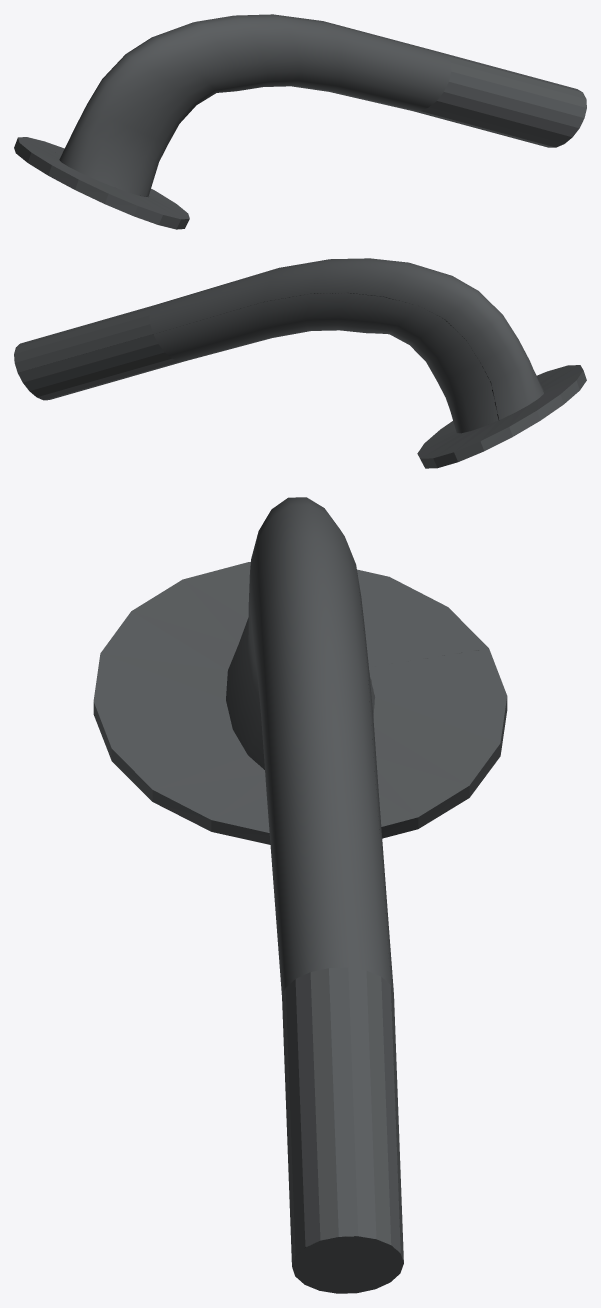
Rendered from Ducha.fbx.
3 renders of one model, top to bottom at view 1: azimuth 30°, elevation 25°; view 2: azimuth 150°, elevation 25°; view 3: azimuth 270°, elevation 25°, orthographic. The views are drawn at different scales.
Parts seen in each view (by area): view 1: Ducha(Mapeada)(texturizada); view 2: Ducha(Mapeada)(texturizada); view 3: Ducha(Mapeada)(texturizada).
Boxes of the visible parts, x1,y1,x2,y2 form: Ducha(Mapeada)(texturizada): (14,14,586,229); Ducha(Mapeada)(texturizada): (14,258,586,468); Ducha(Mapeada)(texturizada): (93,497,507,1293).
Bounding box in the file's own units: 438 × 163 × 146.
